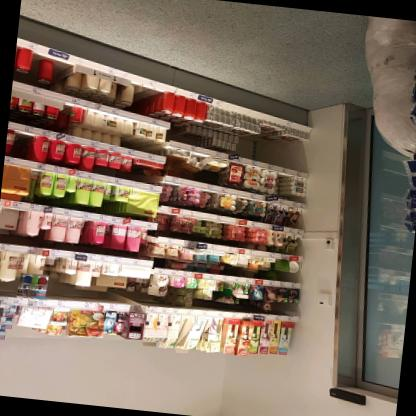empty_space: (15, 131, 28, 157), (136, 89, 150, 113), (274, 172, 286, 199), (52, 62, 62, 86)
